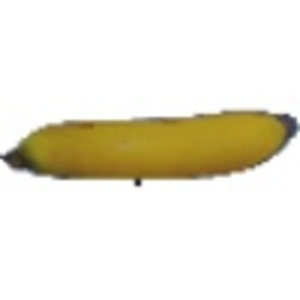banana: (1, 105, 299, 185)
